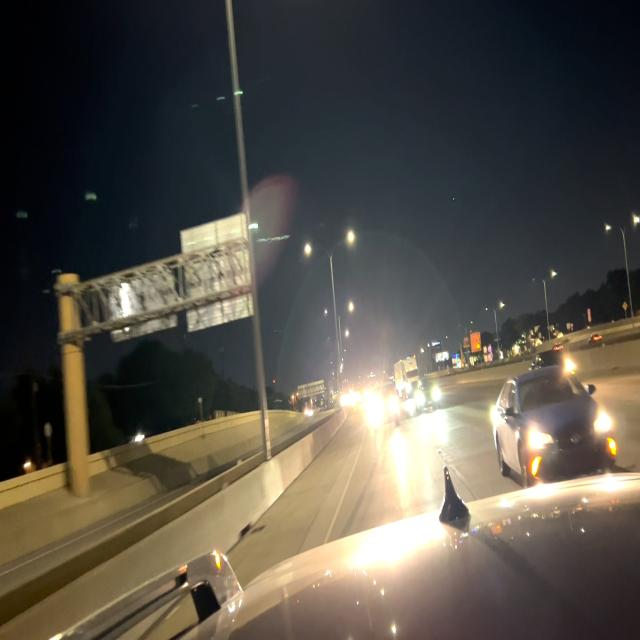back-of-sign: (107, 215, 254, 344), (297, 380, 325, 401)
